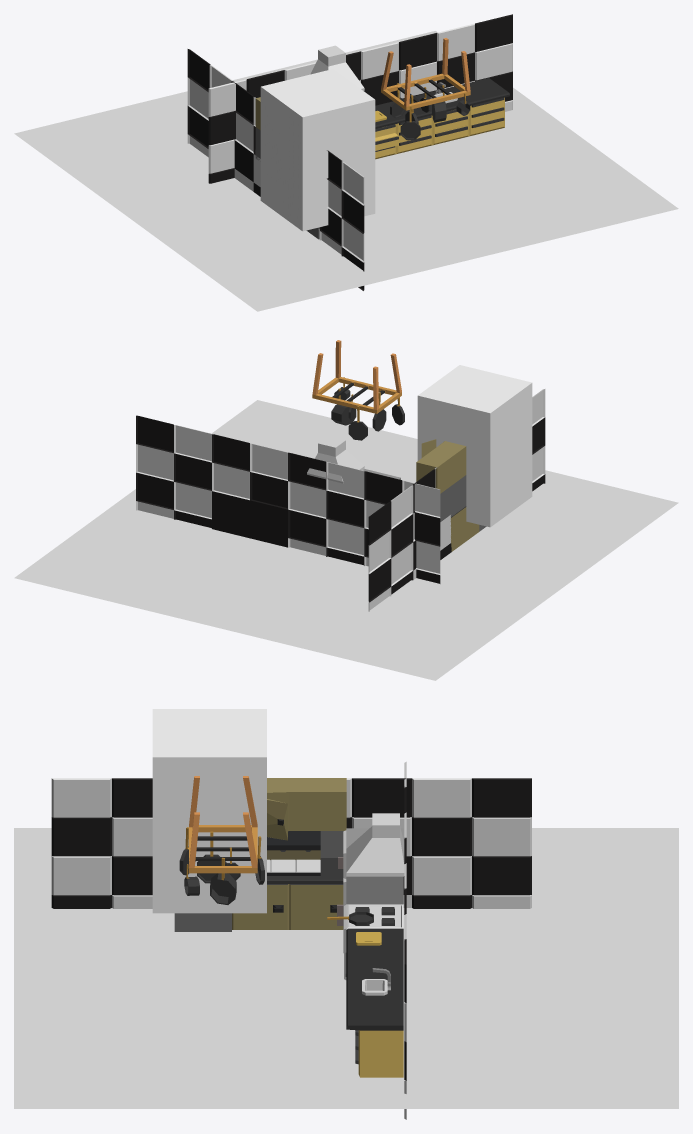
Rendered from Cuisine.glb.
The picture shows the model from 3 angles, top to bottom: view 1: azimuth 30°, elevation 25°; view 2: azimuth 150°, elevation 25°; view 3: azimuth 270°, elevation 25°; orthographic projection. The views are drawn at different scales.
Parts seen in each view (by area): view 1: Plane, Smoke Domain, Mur, Mur.001, PlanDeTravail.001, PorteCasserolle, PlanDeTravail, Hotte; view 2: Plane, Mur, Smoke Domain, Mur.001, PlanDeTravailB, PorteCasserolle, Hotte; view 3: Plane, Mur.001, Smoke Domain, PlanDeTravailB, PlanDeTravail.001, PorteCasserolle, Hotte, PlanDeTravail, Frigo, MachineACafe, Four, Friteuse (+2 smaller).
Part boxes in pixels (x1,y1,x2,y2): Plane: (14, 31, 678, 311); Smoke Domain: (260, 69, 375, 231); Mur: (208, 14, 512, 183); Mur.001: (187, 49, 364, 290); PlanDeTravail.001: (417, 78, 509, 145); PorteCasserolle: (381, 38, 470, 110); PlanDeTravail: (375, 95, 432, 159); Hotte: (310, 45, 364, 90); Plane: (14, 400, 678, 680); Mur: (136, 415, 440, 583); Smoke Domain: (417, 365, 532, 527); Mur.001: (368, 389, 545, 611); PlanDeTravailB: (416, 439, 479, 551); PorteCasserolle: (312, 340, 401, 413); Hotte: (307, 436, 364, 483); Plane: (14, 828, 678, 1108); Mur.001: (51, 778, 531, 908); Smoke Domain: (152, 709, 266, 913); PlanDeTravailB: (232, 778, 346, 929); PlanDeTravail.001: (346, 977, 403, 1077); PorteCasserolle: (189, 776, 257, 873); Hotte: (346, 813, 404, 876); PlanDeTravail: (345, 928, 403, 978); Frigo: (337, 828, 403, 953); MachineACafe: (267, 831, 320, 875); Four: (344, 904, 403, 979); Friteuse: (174, 913, 231, 931).
Size of the model in its own units: 23.2 by 8.56 by 23.2.
